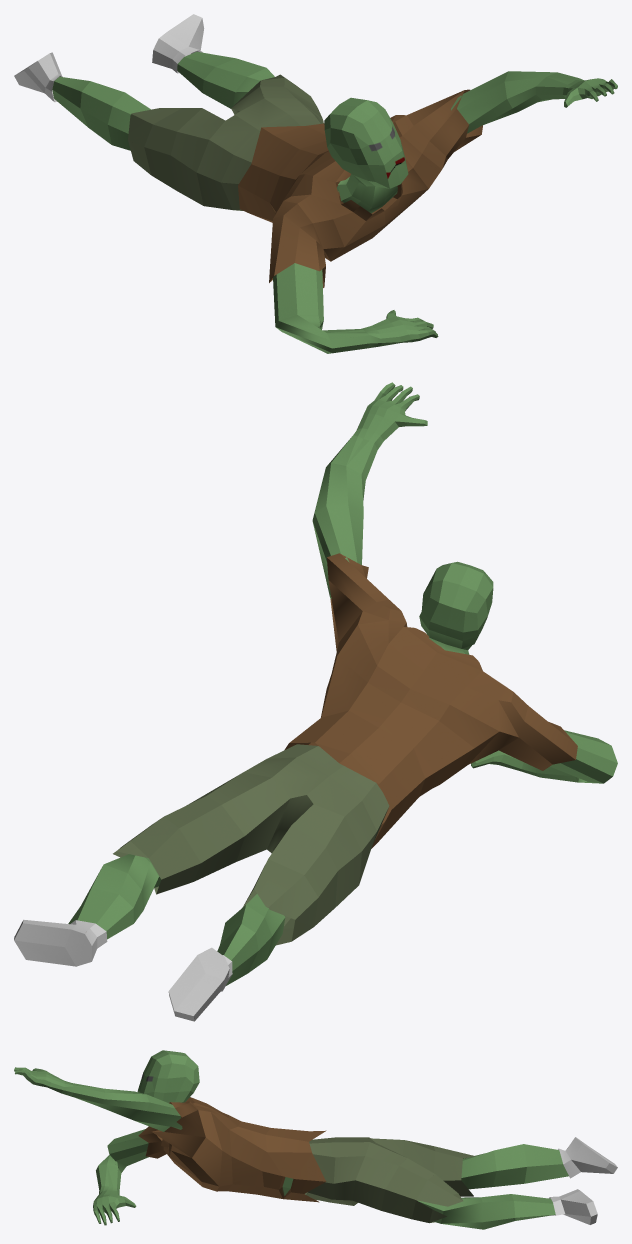
Rendered from ZombieCrawl(105).obj.
3 views of the same model, one above another, from view 1: azimuth 30°, elevation 25°; view 2: azimuth 150°, elevation 25°; view 3: azimuth 270°, elevation 25° (orthographic). The views are drawn at different scales.
Visible parts, largest first — view 1: Object001; view 2: Object001; view 3: Object001.
Boxes of the visible parts, <box> form: Object001: <box>14,14,617,353</box>; Object001: <box>14,382,617,1021</box>; Object001: <box>14,1050,617,1229</box>.
Size of the model in its own units: 29.09 by 26.64 by 72.15.
